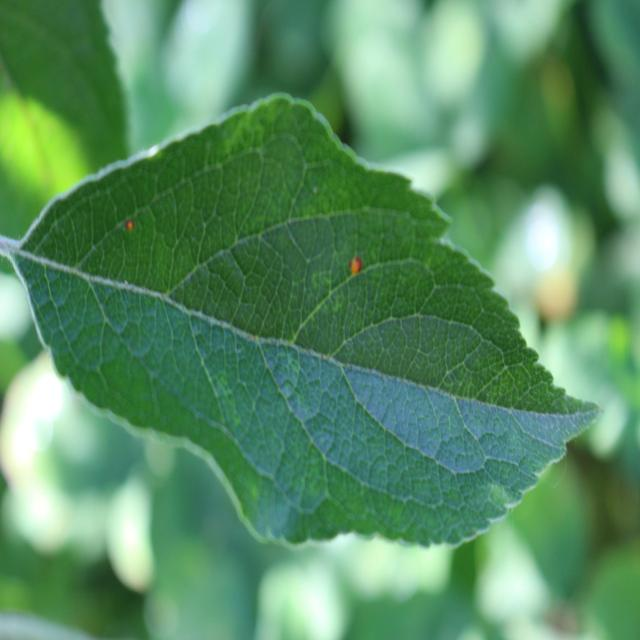Rust: (335, 240, 374, 289), (119, 205, 139, 242)
